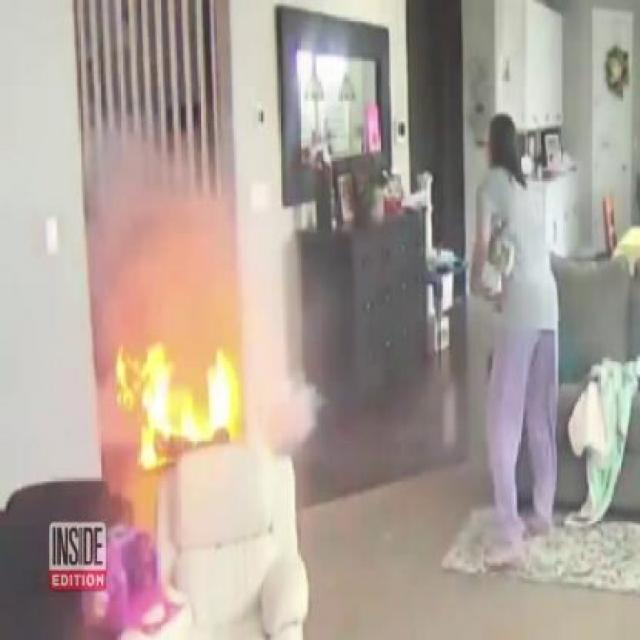fire: (80, 282, 268, 488)
